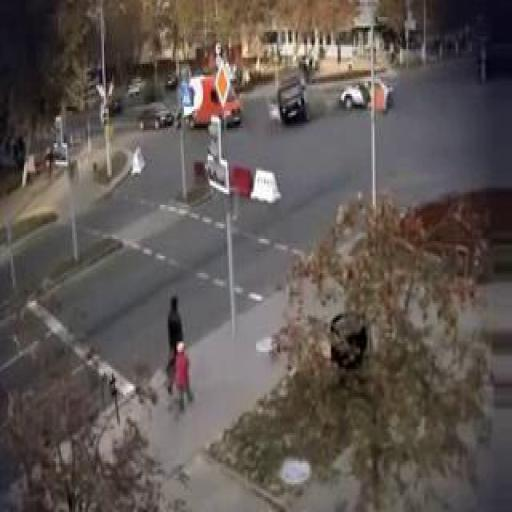Car: (280, 73, 308, 124), (341, 82, 391, 110), (138, 104, 171, 129)
Major Accident: (281, 71, 392, 121)
